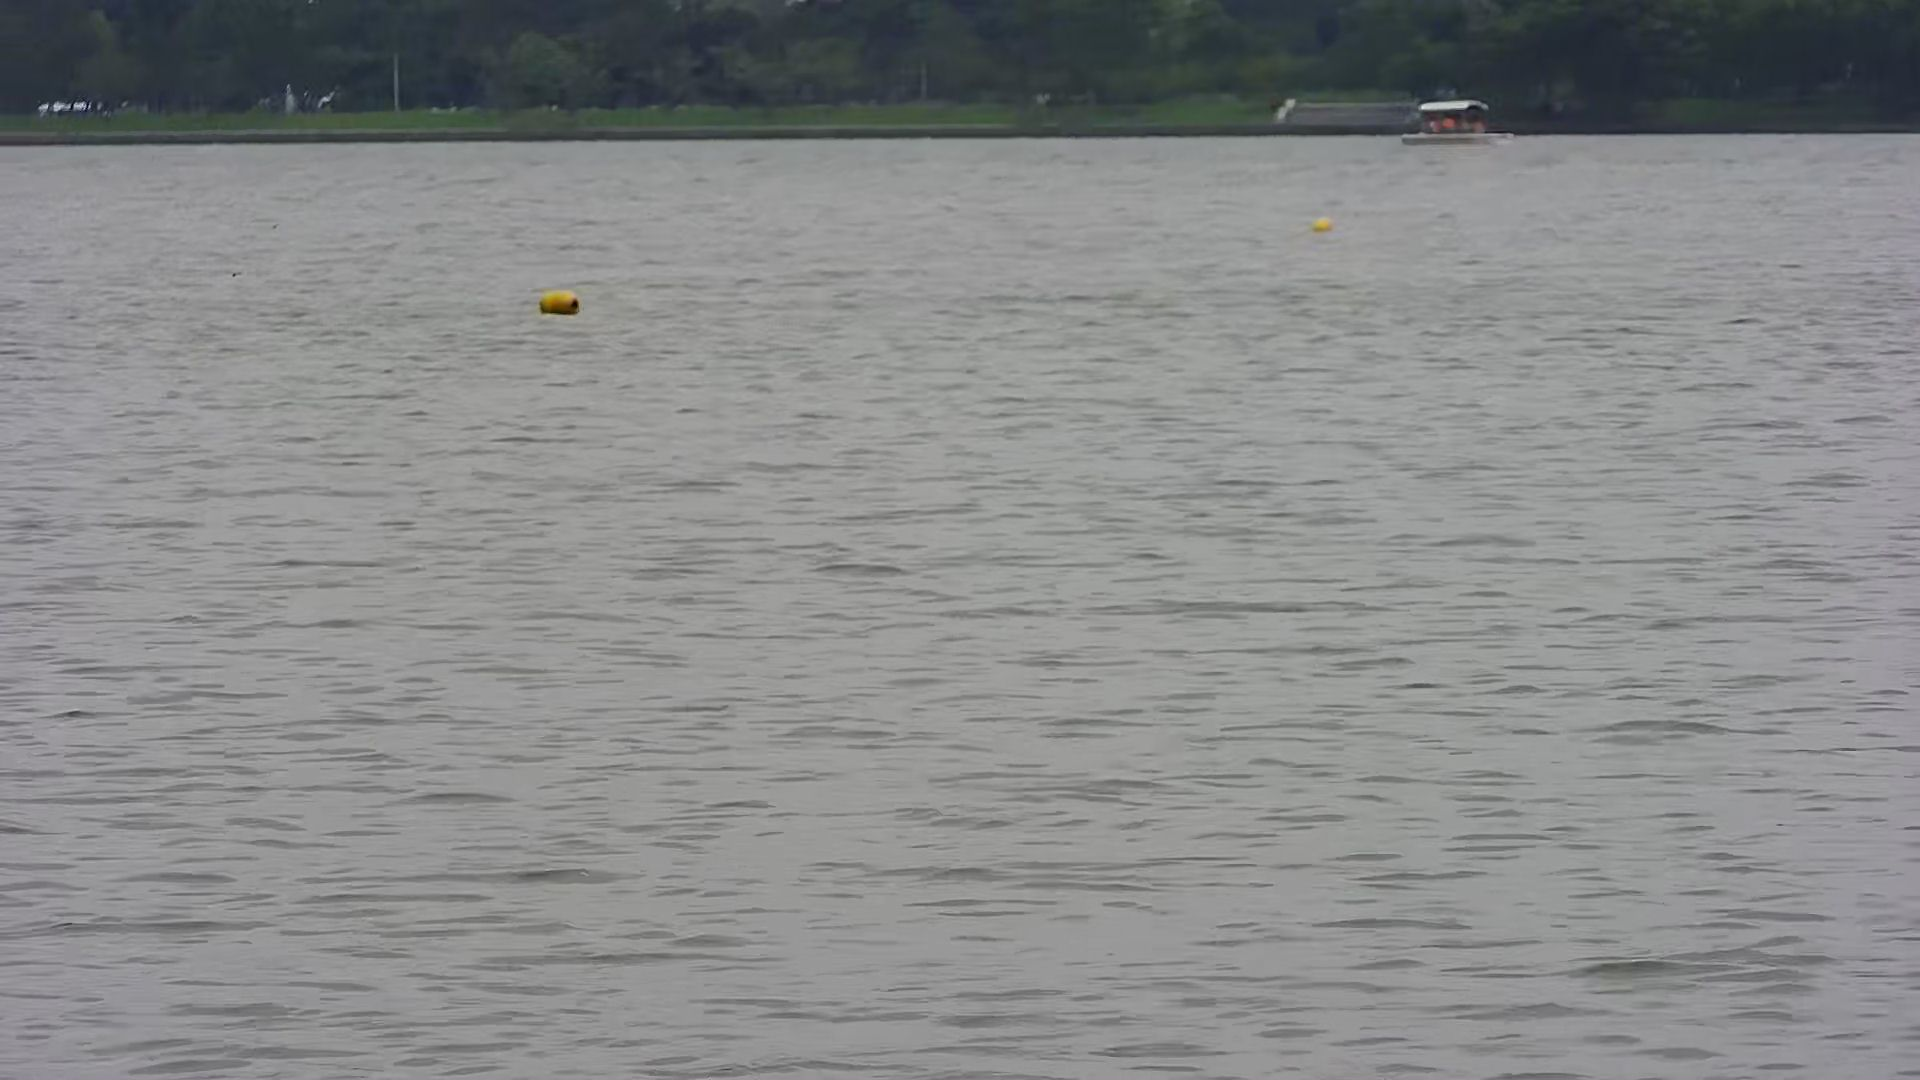boat: (1395, 100, 1516, 149)
rubbish: (538, 286, 578, 315)
